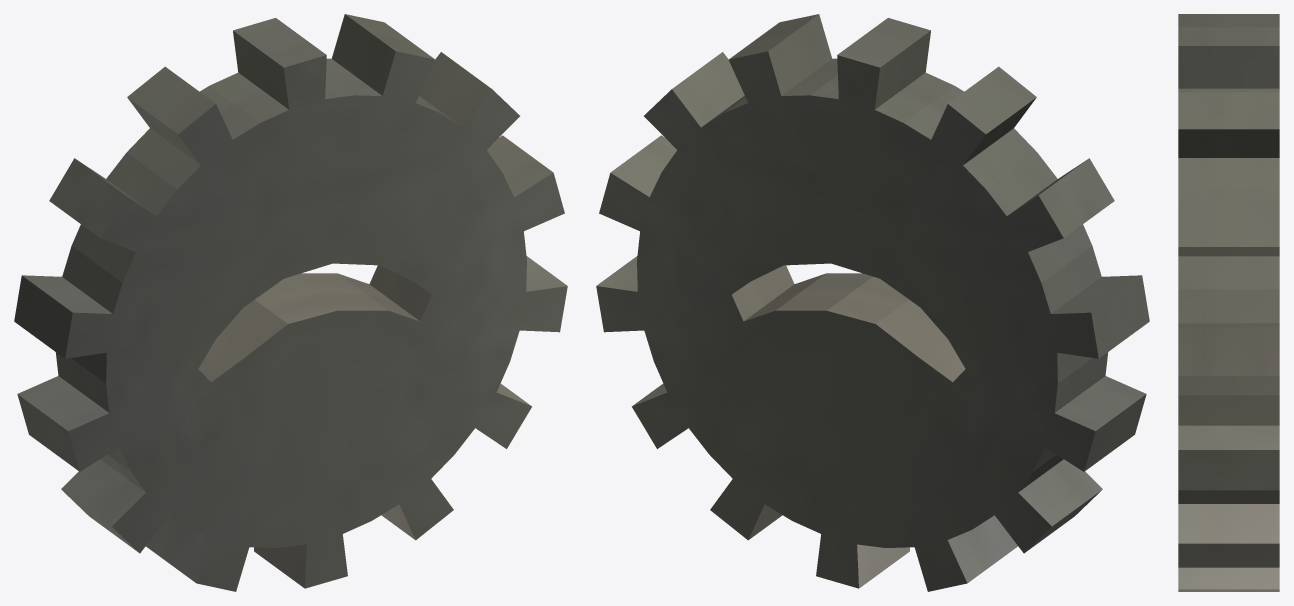
Rendered from large.obj.
The picture shows the model from 3 angles, left to right: view 1: azimuth 30°, elevation 25°; view 2: azimuth 150°, elevation 25°; view 3: azimuth 270°, elevation 25°; orthographic projection.
Visible parts, largest first — view 1: largeGear; view 2: largeGear; view 3: largeGear.
Boxes of the visible parts, x1,y1,x2,y2 form: largeGear: (14, 14, 567, 591); largeGear: (596, 14, 1149, 591); largeGear: (1178, 14, 1279, 591).
Bounding box in the file's own units: 0.4492 × 0.4511 × 0.0789.
1 material, 1 textured.
